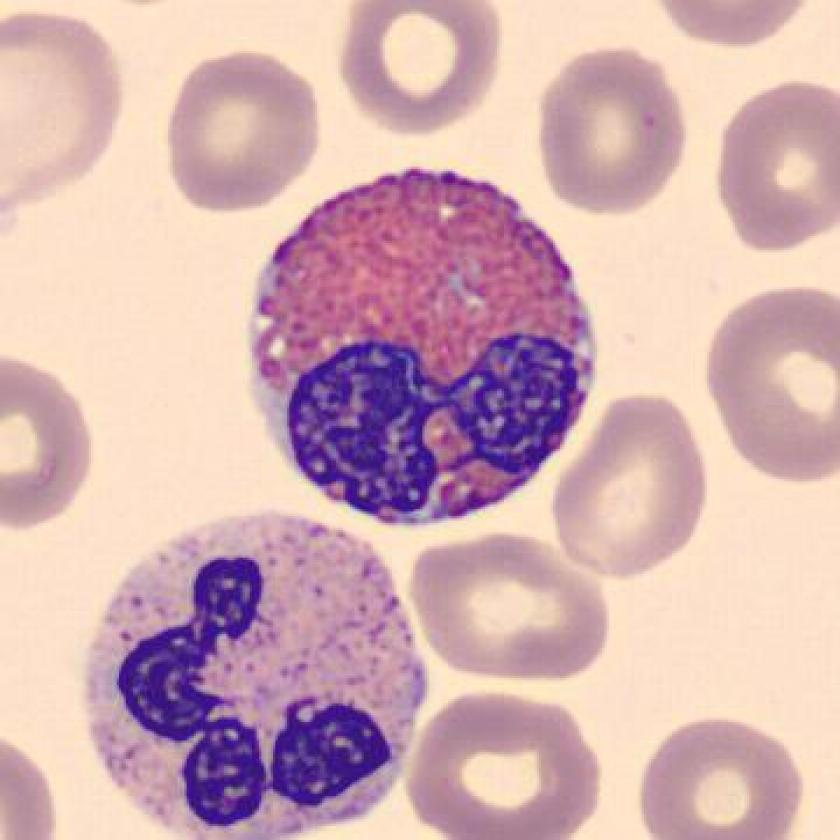eosinophil: (237, 161, 610, 533)
